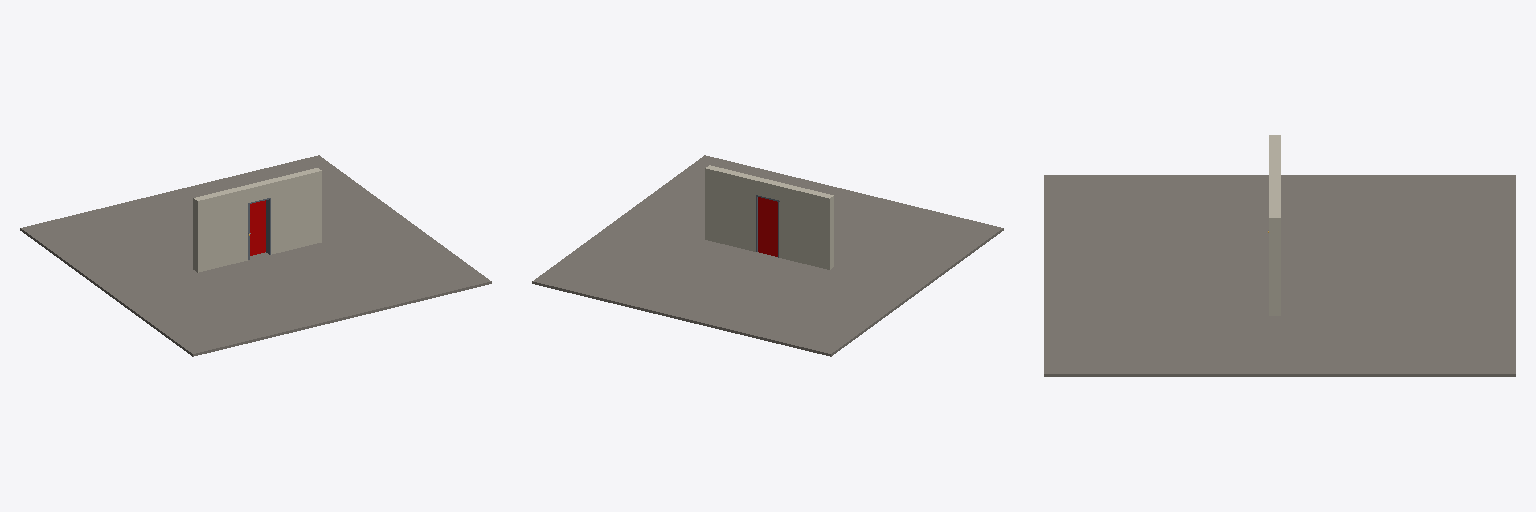
The robot description file, URDF, robot "db0582_swing_single_minimal":
<?xml version="1.0" ?>
<robot xmlns:doorbench="https://github.com/adamraudonis/DoorBench/schema/urdf-ext" name="db0582_swing_single_minimal">
  <link name="world_env">
    <visual name="floor_vis">
      <origin xyz="0 0 -0.05" rpy="0 0 0"/>
      <geometry>
        <box size="12 12 0.1"/>
      </geometry>
      <material name="mat_floor"/>
    </visual>
    <collision name="floor_col">
      <origin xyz="0 0 -0.05" rpy="0 0 0"/>
      <geometry>
        <box size="12 12 0.1"/>
      </geometry>
    </collision>
    <visual name="wall_left_vis">
      <origin xyz="-1.49525 -0.121 1.3735" rpy="0 0 0"/>
      <geometry>
        <box size="2.0095 0.3 2.747"/>
      </geometry>
      <material name="mat_wall"/>
    </visual>
    <collision name="wall_left_col">
      <origin xyz="-1.49525 -0.121 1.3735" rpy="0 0 0"/>
      <geometry>
        <box size="2.0095 0.3 2.747"/>
      </geometry>
    </collision>
    <visual name="wall_right_vis">
      <origin xyz="1.48025 -0.121 1.3735" rpy="0 0 0"/>
      <geometry>
        <box size="2.0395 0.3 2.747"/>
      </geometry>
      <material name="mat_wall"/>
    </visual>
    <collision name="wall_right_col">
      <origin xyz="1.48025 -0.121 1.3735" rpy="0 0 0"/>
      <geometry>
        <box size="2.0395 0.3 2.747"/>
      </geometry>
    </collision>
    <visual name="wall_header_vis">
      <origin xyz="-0.015 -0.121 2.487" rpy="0 0 0"/>
      <geometry>
        <box size="0.951 0.3 0.52"/>
      </geometry>
      <material name="mat_wall"/>
    </visual>
    <collision name="wall_header_col">
      <origin xyz="-0.015 -0.121 2.487" rpy="0 0 0"/>
      <geometry>
        <box size="0.951 0.3 0.52"/>
      </geometry>
    </collision>
    <visual name="leaf_staple_leg_n_vis">
      <origin xyz="-0.4385 -0.284 1.0285" rpy="-1.570796 0 3.141593"/>
      <geometry>
        <box size="0.006 0.005 0.026"/>
      </geometry>
      <material name="mat_op_steel_galvanized"/>
    </visual>
    <collision name="leaf_staple_leg_n_col">
      <origin xyz="-0.4385 -0.284 1.0285" rpy="-1.570796 0 3.141593"/>
      <geometry>
        <box size="0.006 0.005 0.026"/>
      </geometry>
    </collision>
    <visual name="leaf_staple_leg_p_vis">
      <origin xyz="-0.4385 -0.284 1.0035" rpy="-1.570796 0 3.141593"/>
      <geometry>
        <box size="0.006 0.005 0.026"/>
      </geometry>
      <material name="mat_op_steel_galvanized"/>
    </visual>
    <collision name="leaf_staple_leg_p_col">
      <origin xyz="-0.4385 -0.284 1.0035" rpy="-1.570796 0 3.141593"/>
      <geometry>
        <box size="0.006 0.005 0.026"/>
      </geometry>
    </collision>
    <visual name="leaf_staple_bridge_vis">
      <origin xyz="-0.4385 -0.2945 1.016" rpy="-1.570796 0 3.141593"/>
      <geometry>
        <box size="0.006 0.03 0.005"/>
      </geometry>
      <material name="mat_op_steel_galvanized"/>
    </visual>
    <collision name="leaf_staple_bridge_col">
      <origin xyz="-0.4385 -0.2945 1.016" rpy="-1.570796 0 3.141593"/>
      <geometry>
        <box size="0.006 0.03 0.005"/>
      </geometry>
    </collision>
    <visual name="leaf_staple_base_vis">
      <origin xyz="-0.4385 -0.272 1.016" rpy="-1.570796 0 3.141593"/>
      <geometry>
        <box size="0.032 0.042 0.002"/>
      </geometry>
      <material name="mat_op_steel_galvanized"/>
    </visual>
    <visual name="leaf_padlock_shackle_vis">
      <origin xyz="-0.4385 -0.286 1.016" rpy="0 -1.570796 0"/>
      <geometry>
        <cylinder radius="0.004" length="0.032"/>
      </geometry>
      <material name="mat_padlock"/>
    </visual>
    <visual name="leaf_padlock_leg_a_vis">
      <origin xyz="-0.4225 -0.286 1.004" rpy="3.141593 0 0"/>
      <geometry>
        <cylinder radius="0.004" length="0.024"/>
      </geometry>
      <material name="mat_padlock"/>
    </visual>
    <visual name="leaf_padlock_leg_b_vis">
      <origin xyz="-0.4545 -0.286 1.004" rpy="3.141593 0 0"/>
      <geometry>
        <cylinder radius="0.004" length="0.024"/>
      </geometry>
      <material name="mat_padlock"/>
    </visual>
    <visual name="leaf_padlock_body_vis">
      <origin xyz="-0.4385 -0.286 0.974" rpy="-1.570796 0 3.141593"/>
      <geometry>
        <box size="0.044 0.036 0.016"/>
      </geometry>
      <material name="mat_padlock"/>
    </visual>
    <collision name="leaf_padlock_body_col">
      <origin xyz="-0.4385 -0.286 0.974" rpy="-1.570796 0 3.141593"/>
      <geometry>
        <box size="0.044 0.036 0.016"/>
      </geometry>
    </collision>
    <visual name="jamb_hinge_vis">
      <origin xyz="0.4355 -0.121 1.0735" rpy="0 0 0"/>
      <geometry>
        <box size="0.05 0.3 2.147"/>
      </geometry>
      <material name="mat_frame"/>
    </visual>
    <collision name="jamb_hinge_col">
      <origin xyz="0.4355 -0.121 1.0735" rpy="0 0 0"/>
      <geometry>
        <box size="0.05 0.3 2.147"/>
      </geometry>
    </collision>
    <visual name="jamb_strike_vis">
      <origin xyz="-0.4355 -0.121 1.0735" rpy="0 0 0"/>
      <geometry>
        <box size="0.05 0.3 2.147"/>
      </geometry>
      <material name="mat_frame"/>
    </visual>
    <collision name="jamb_strike_col">
      <origin xyz="-0.4355 -0.121 1.0735" rpy="0 0 0"/>
      <geometry>
        <box size="0.05 0.3 2.147"/>
      </geometry>
    </collision>
    <visual name="stud_strike_vis">
      <origin xyz="-0.4755 -0.121 1.0735" rpy="0 0 0"/>
      <geometry>
        <box size="0.03 0.3 2.147"/>
      </geometry>
      <material name="mat_wall"/>
    </visual>
    <collision name="stud_strike_col">
      <origin xyz="-0.4755 -0.121 1.0735" rpy="0 0 0"/>
      <geometry>
        <box size="0.03 0.3 2.147"/>
      </geometry>
    </collision>
    <visual name="jamb_head_vis">
      <origin xyz="-0.015 -0.121 2.172" rpy="0 0 0"/>
      <geometry>
        <box size="0.951 0.3 0.05"/>
      </geometry>
      <material name="mat_frame"/>
    </visual>
    <collision name="jamb_head_col">
      <origin xyz="-0.015 -0.121 2.172" rpy="0 0 0"/>
      <geometry>
        <box size="0.951 0.3 0.05"/>
      </geometry>
    </collision>
    <visual name="head_stud_vis">
      <origin xyz="-0.015 -0.121 2.212" rpy="0 0 0"/>
      <geometry>
        <box size="0.951 0.3 0.03"/>
      </geometry>
      <material name="mat_wall"/>
    </visual>
    <collision name="head_stud_col">
      <origin xyz="-0.015 -0.121 2.212" rpy="0 0 0"/>
      <geometry>
        <box size="0.951 0.3 0.03"/>
      </geometry>
    </collision>
    <visual name="stop_hinge_vis">
      <origin xyz="0.405 -0.0385 1.0735" rpy="0 0 0"/>
      <geometry>
        <box size="0.011 0.032 2.147"/>
      </geometry>
      <material name="mat_frame"/>
    </visual>
    <collision name="stop_hinge_col">
      <origin xyz="0.405 -0.0385 1.0735" rpy="0 0 0"/>
      <geometry>
        <box size="0.011 0.032 2.147"/>
      </geometry>
    </collision>
    <visual name="stop_strike_vis">
      <origin xyz="-0.405 -0.0385 1.0735" rpy="0 0 0"/>
      <geometry>
        <box size="0.011 0.032 2.147"/>
      </geometry>
      <material name="mat_frame"/>
    </visual>
    <collision name="stop_strike_col">
      <origin xyz="-0.405 -0.0385 1.0735" rpy="0 0 0"/>
      <geometry>
        <box size="0.011 0.032 2.147"/>
      </geometry>
    </collision>
    <visual name="stop_head_vis">
      <origin xyz="0 -0.0385 2.1415" rpy="0 0 0"/>
      <geometry>
        <box size="0.821 0.032 0.011"/>
      </geometry>
      <material name="mat_frame"/>
    </visual>
    <collision name="stop_head_col">
      <origin xyz="0 -0.0385 2.1415" rpy="0 0 0"/>
      <geometry>
        <box size="0.821 0.032 0.011"/>
      </geometry>
    </collision>
  </link>
  <link name="leaf">
    <inertial>
      <origin xyz="-0.4065 -0.029 1.076" rpy="0 0 0"/>
      <mass value="61.501241"/>
      <inertia ixx="23.349417613" ixy="0" ixz="0" iyy="26.727029887" iyz="0" izz="3.397456674"/>
    </inertial>
    <visual name="leaf_slab_vis">
      <origin xyz="-0.4065 -0.029 1.076" rpy="0 0 0"/>
      <geometry>
        <box size="0.813 0.044 2.134"/>
      </geometry>
      <material name="mat_leaf"/>
    </visual>
    <collision name="leaf_slab_col">
      <origin xyz="-0.4065 -0.029 1.076" rpy="0 0 0"/>
      <geometry>
        <box size="0.813 0.044 2.134"/>
      </geometry>
    </collision>
  </link>
  <link name="leaf_hasp">
    <inertial>
      <origin xyz="-0.055 -0.0015 0" rpy="0 0 0"/>
      <mass value="0.09009"/>
      <inertia ixx="0.000009264" ixy="0" ixz="0" iyy="0.000100037" iyz="0" izz="0.000090908"/>
    </inertial>
    <visual name="leaf_hasp_strap_vis">
      <origin xyz="-0.055 -0.0015 0" rpy="-1.570796 0 3.141593"/>
      <geometry>
        <box size="0.11 0.035 0.003"/>
      </geometry>
      <material name="mat_op_steel_galvanized"/>
    </visual>
    <collision name="leaf_hasp_strap_col">
      <origin xyz="-0.055 -0.0015 0" rpy="-1.570796 0 3.141593"/>
      <geometry>
        <box size="0.11 0.035 0.003"/>
      </geometry>
    </collision>
  </link>
  <joint name="leaf_hinge" type="revolute">
    <origin xyz="0.4075 0.029 0" rpy="0 0 0"/>
    <parent link="world_env"/>
    <child link="leaf"/>
    <axis xyz="0 0 -1"/>
    <limit lower="0" upper="0.0015" effort="2000" velocity="10"/>
    <dynamics damping="12.168374" friction="0.75031"/>
    <doorbench:spring stiffness="12.197635" springref="-2.749713" note="tau = -stiffness*(q - springref); not native URDF"/>
    <doorbench:closer damping_closing="81" damping_opening="12" backcheck_angle="1.22" backcheck_damping="60"/>
    <doorbench:note text="Padlocked hasp: leaf effectively fixed (2 mm rattle)"/>
  </joint>
  <joint name="leaf_hasp_hinge" type="revolute">
    <origin xyz="-0.758 -0.304 1.016" rpy="0 0 0"/>
    <parent link="leaf"/>
    <child link="leaf_hasp"/>
    <axis xyz="0 0 1"/>
    <limit lower="0" upper="0.0015" effort="2000" velocity="10"/>
    <dynamics damping="0.02" friction="0.05"/>
  </joint>
  <material name="mat_floor">
    <color rgba="0.55 0.53 0.5 1"/>
  </material>
  <material name="mat_frame">
    <color rgba="0.45 0.48 0.52 1"/>
  </material>
  <material name="mat_leaf">
    <color rgba="0.8 0.05 0.05 1"/>
  </material>
  <material name="mat_op_steel_galvanized">
    <color rgba="0.65 0.66 0.68 1"/>
  </material>
  <material name="mat_padlock">
    <color rgba="0.85 0.66 0.3 1"/>
  </material>
  <material name="mat_wall">
    <color rgba="0.78 0.76 0.7 1"/>
  </material>
</robot>

--- Facts derived from the render (not from the file) ---
Views: 3 orthographic renders of the robot side by side, from view 1: azimuth 30°, elevation 25°; view 2: azimuth 150°, elevation 25°; view 3: azimuth 270°, elevation 25°.
Model db0582_swing_single_minimal with 3 links and 2 joints (2 revolute), rooted at world_env, posed every joint at zero.
Links seen in each view (by area): view 1: world_env, leaf; view 2: world_env, leaf; view 3: world_env.
Link boxes in pixels (bbox=[...]): world_env: bbox=[20, 155, 491, 356]; leaf: bbox=[250, 200, 265, 255]; world_env: bbox=[532, 155, 1003, 356]; leaf: bbox=[758, 197, 777, 256]; world_env: bbox=[1044, 135, 1515, 376].
Bounding box of the posed robot: 12 × 12 × 2.85 m (x, y, z).
Geometry: primitives only (box / cylinder / sphere), no mesh files.
